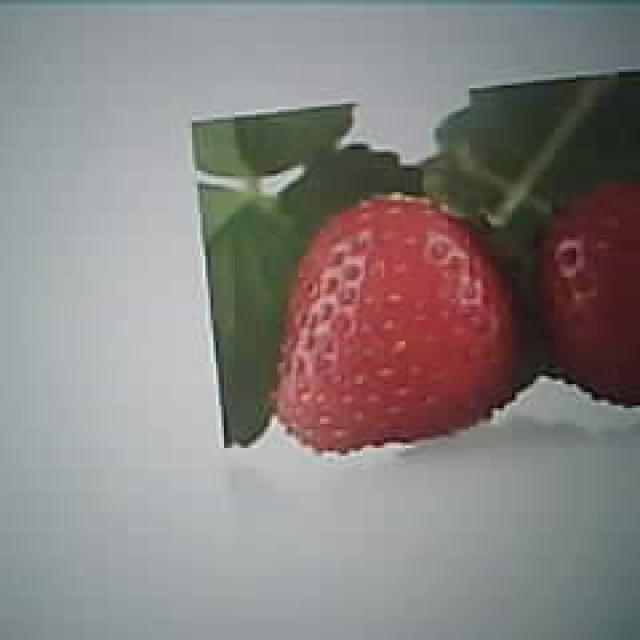ripe: (278, 196, 516, 448)
